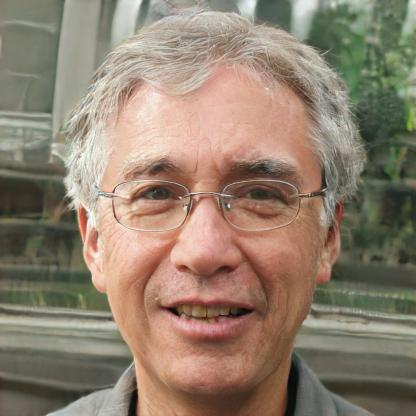glasses: (99, 176, 319, 238)
